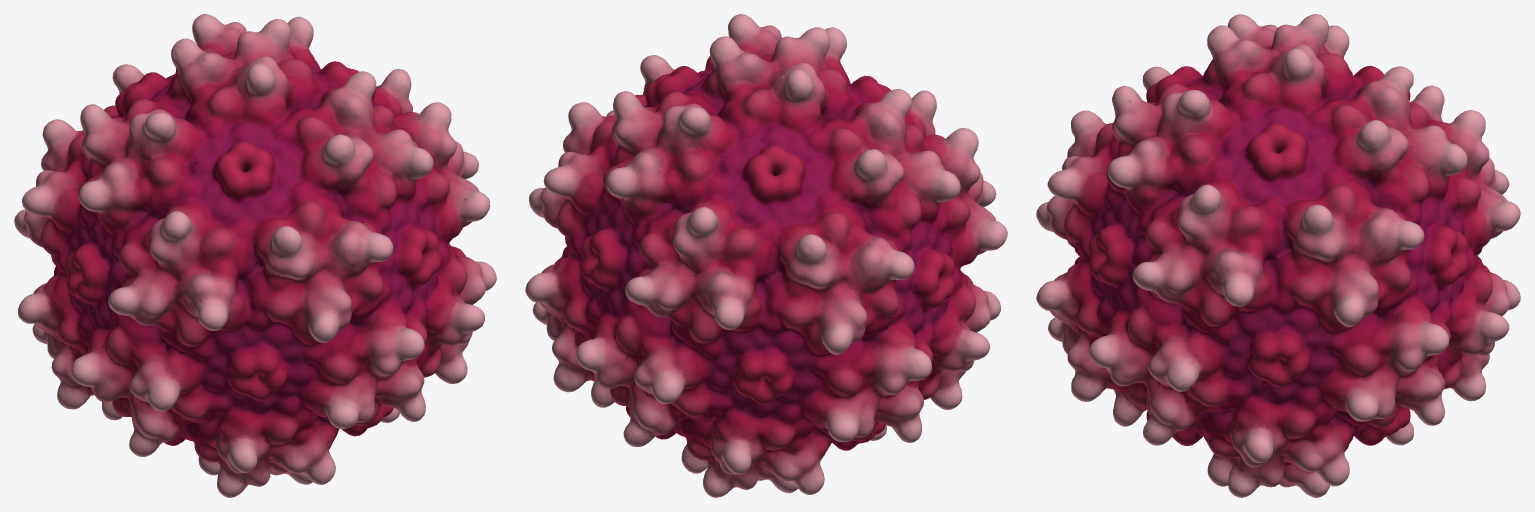
The picture shows the model from 3 angles, left to right: view 1: azimuth 30°, elevation 25°; view 2: azimuth 150°, elevation 25°; view 3: azimuth 270°, elevation 25°; orthographic projection.
Parts seen in each view (by area): view 1: 1LP3_protein; view 2: 1LP3_protein; view 3: 1LP3_protein.
Boxes of the visible parts, x1=… form: 1LP3_protein: x1=14, y1=14, x2=496, y2=497; 1LP3_protein: x1=525, y1=14, x2=1007, y2=497; 1LP3_protein: x1=1036, y1=14, x2=1520, y2=497.
Bounding box in the file's own units: 29.08 × 30.19 × 29.8.
